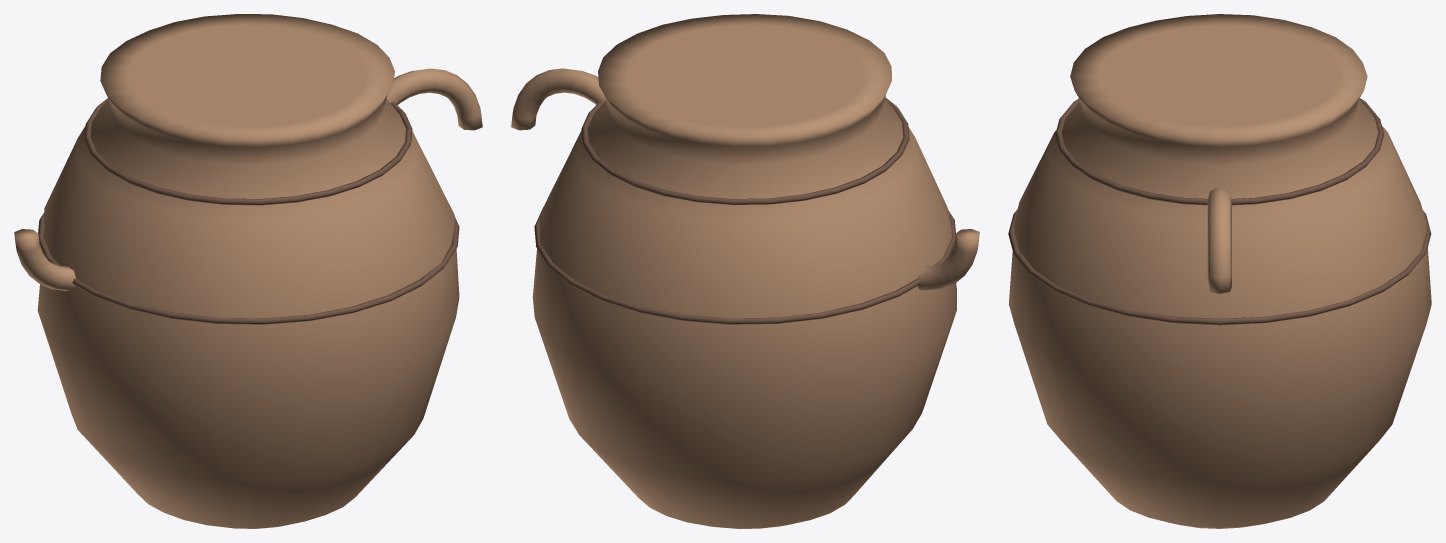
Rendered from pithos.glb.
The picture shows the model from 3 angles, left to right: view 1: azimuth 30°, elevation 25°; view 2: azimuth 150°, elevation 25°; view 3: azimuth 270°, elevation 25°; orthographic projection.
Visible parts, largest first — view 1: amphora_body, amphora_bands, amphora_handles; view 2: amphora_body, amphora_bands, amphora_handles; view 3: amphora_body, amphora_bands, amphora_handles.
Part boxes in pixels (<box>): amphora_body: <box>37,14,459,528</box>; amphora_bands: <box>38,98,459,324</box>; amphora_handles: <box>14,68,482,290</box>; amphora_body: <box>532,14,956,528</box>; amphora_bands: <box>534,97,955,324</box>; amphora_handles: <box>511,68,979,290</box>; amphora_body: <box>1009,14,1431,528</box>; amphora_bands: <box>1008,98,1431,325</box>; amphora_handles: <box>1207,187,1231,293</box>.
Bounding box in the file's own units: 0.944 × 0.8 × 0.7417.
